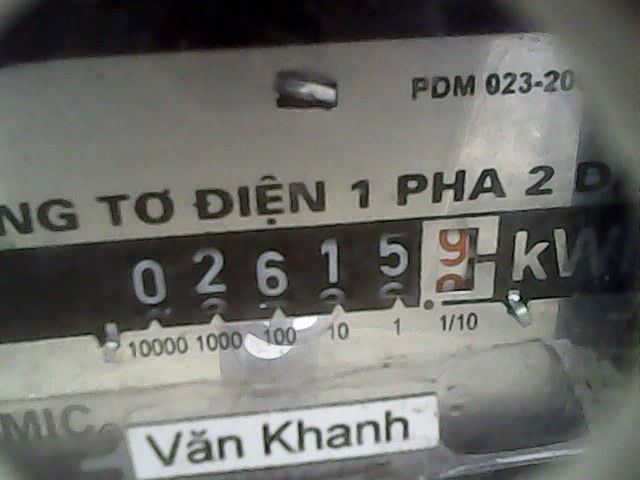phy_plate: (119, 207, 500, 327)
